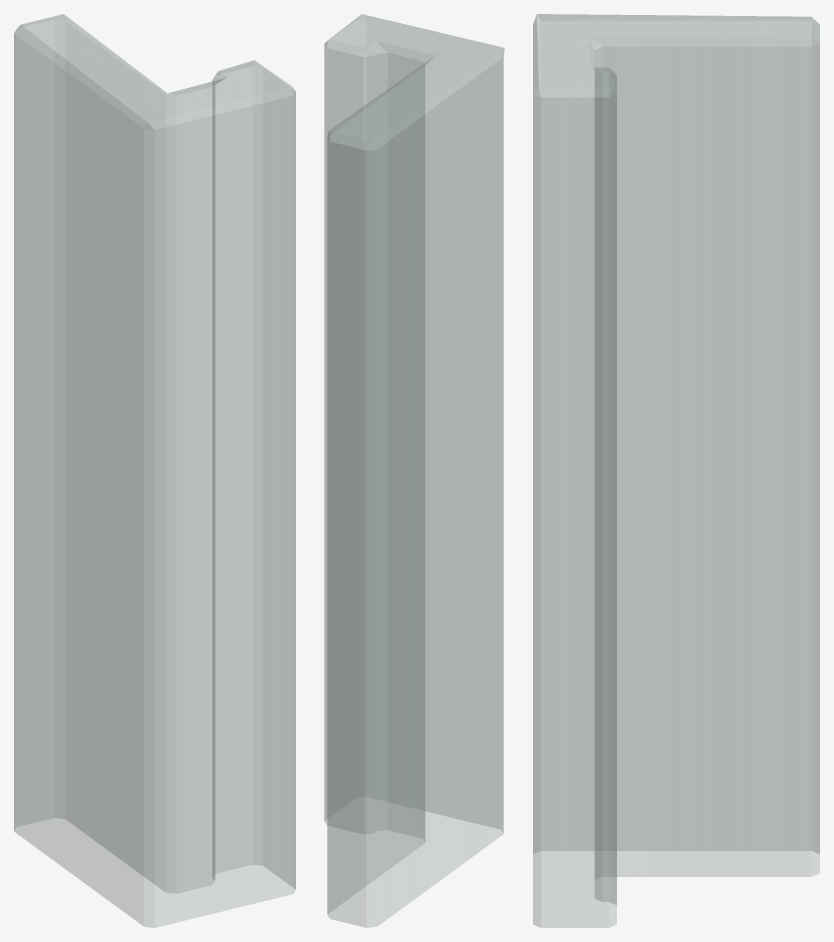
3 views of the same model, side by side, from view 1: azimuth 30°, elevation 25°; view 2: azimuth 150°, elevation 25°; view 3: azimuth 270°, elevation 25° (orthographic). The views are drawn at different scales.
Visible parts, largest first — view 1: L; view 2: L; view 3: L.
Boxes of the visible parts, x1=… form: L: x1=14, y1=14, x2=295, y2=927; L: x1=324, y1=14, x2=504, y2=927; L: x1=533, y1=14, x2=819, y2=927.
Size of the model in its own units: 0.3826 by 1.94 by 0.6019.
1 material, 1 textured.
